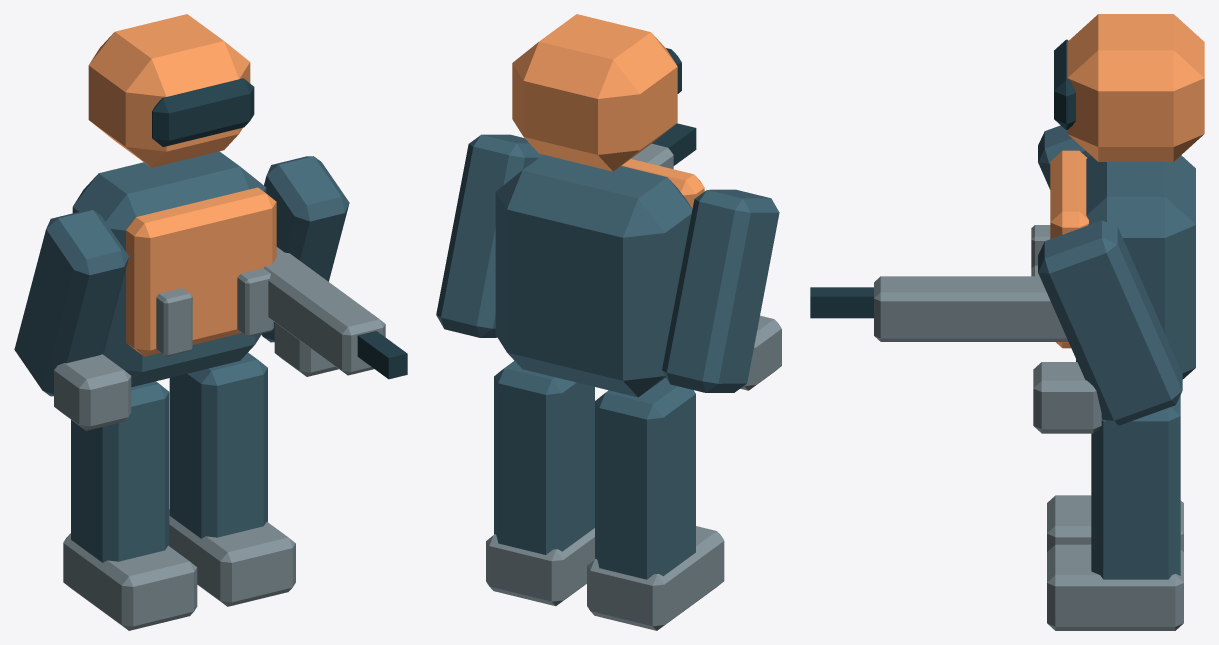
Rendered from operator.glb.
3 renders of one model, left to right at view 1: azimuth 30°, elevation 25°; view 2: azimuth 150°, elevation 25°; view 3: azimuth 270°, elevation 25°, orthographic. The views are drawn at different scales.
Parts seen in each view (by area): view 1: Vest, Leg_1, Leg_-1, Helmet, Arm_-1, Body, Boot_-1, Training rifle, Boot_1, Arm_1, Visor, Glove_-1 (+4 smaller); view 2: Body, Helmet, Leg_-1, Leg_1, Arm_-1, Arm_1, Boot_-1, Boot_1, Glove_-1, Vest, Muzzle, Training rifle; view 3: Helmet, Arm_1, Leg_1, Body, Training rifle, Boot_1, Glove_1, Vest, Boot_-1, Muzzle, Visor, Arm_-1 (+1 smaller).
Boxes of the visible parts, x1,y1,x2,y2 form: Vest: (126,187,276,356); Leg_1: (169,352,267,538); Leg_-1: (71,381,169,562); Helmet: (88,14,250,167); Arm_-1: (14,210,128,396); Body: (72,151,266,387); Boot_-1: (63,533,197,630); Training rifle: (264,247,385,375); Boot_1: (169,509,295,606); Arm_1: (261,156,349,342); Visor: (152,78,254,146); Glove_-1: (54,354,131,430); Body: (495,155,692,397); Helmet: (512,14,677,171); Leg_-1: (595,377,695,579); Leg_1: (494,361,594,554); Arm_-1: (662,189,779,392); Arm_1: (436,134,543,337); Boot_-1: (587,526,724,630); Boot_1: (486,528,594,606); Glove_-1: (740,315,781,390); Vest: (621,159,704,208); Muzzle: (652,123,696,165); Training rifle: (631,143,673,169); Helmet: (1067,14,1204,161); Arm_1: (1038,220,1182,425); Leg_1: (1091,395,1180,579); Body: (1076,155,1195,379); Training rifle: (874,276,1068,341); Boot_1: (1047,544,1183,630); Glove_1: (1033,362,1101,433); Vest: (1050,150,1088,348); Boot_-1: (1047,495,1183,551); Muzzle: (810,287,873,318); Visor: (1054,39,1075,129); Arm_-1: (1038,125,1090,189).
Size of the model in its own units: 0.95 by 1.8 by 1.15.
